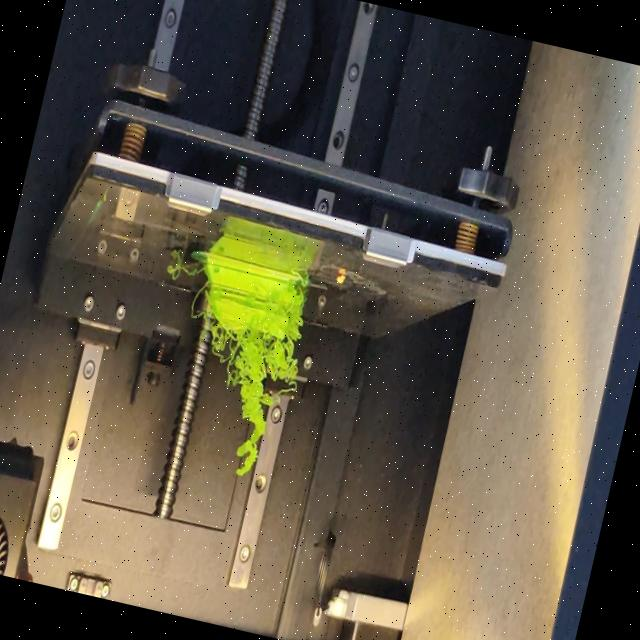spaghetti: (179, 314, 308, 484), (282, 266, 314, 338), (166, 252, 205, 286), (188, 282, 212, 325)
